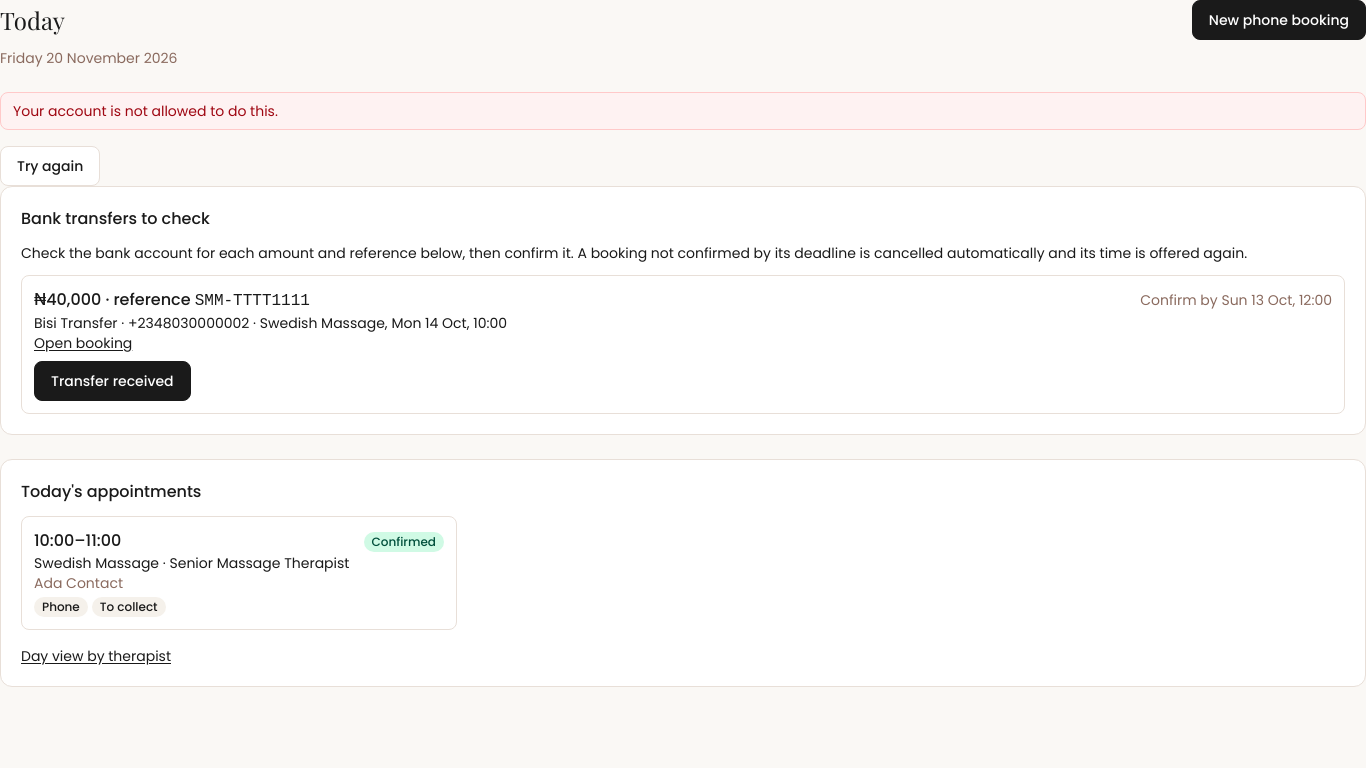
it: home (owner/admin) › reports a failure and retries
The image size is (1366, 768).
Expected: the message reads "Your account is not allowed to do this.", [13, 101, 278, 121]
Click the button "Try again": (50, 166) [0, 146, 100, 186]
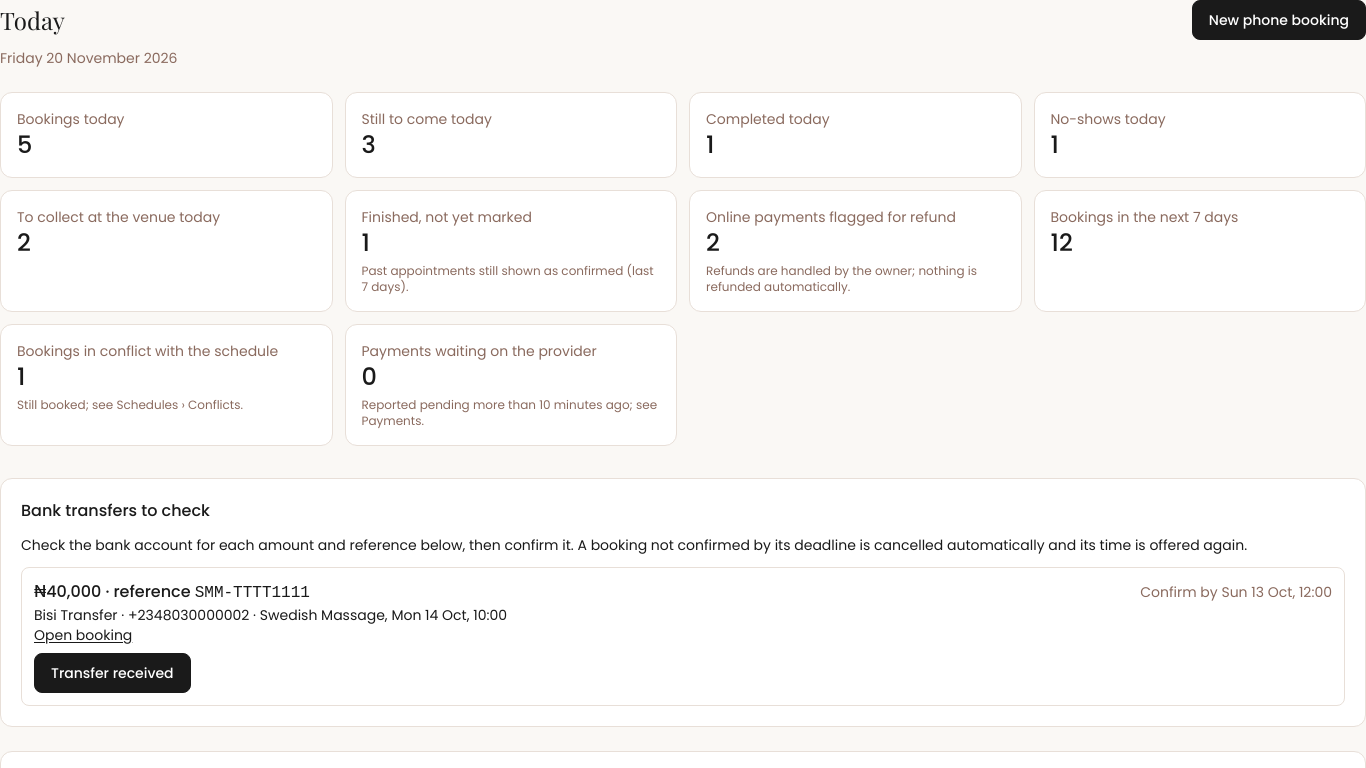
Result: the text "Bookings today" is shown at [17, 109, 124, 129]
